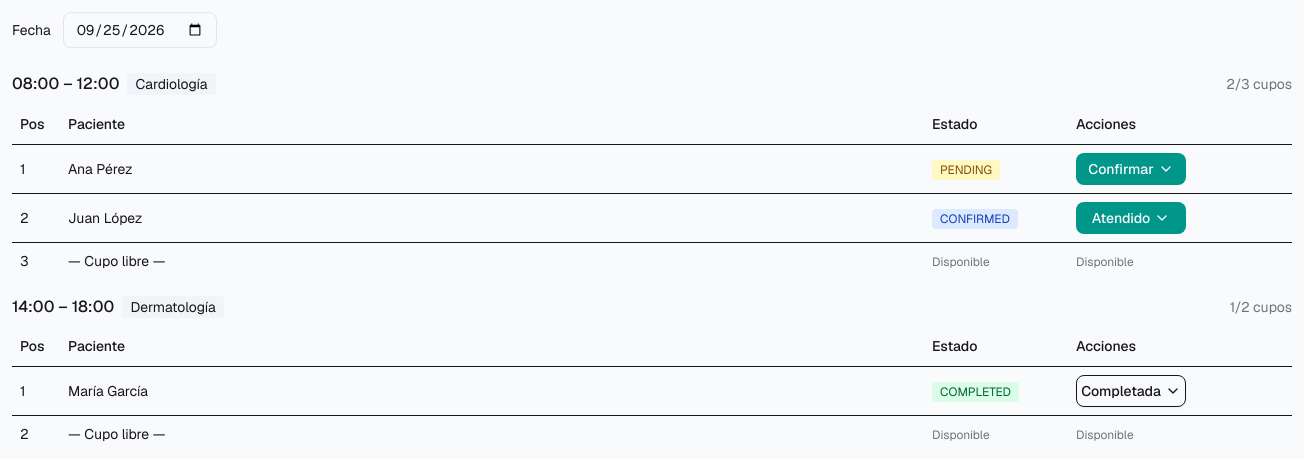
Test case: Agenda del doctor › marca ATENDIDA y NO_ASISTIDA
# Abrir dropdown y verificar botones
Click the button with test id "dropdown-cita-1" at coordinates (1131, 168), box top-left (1076, 152), bottom-right (1186, 184)
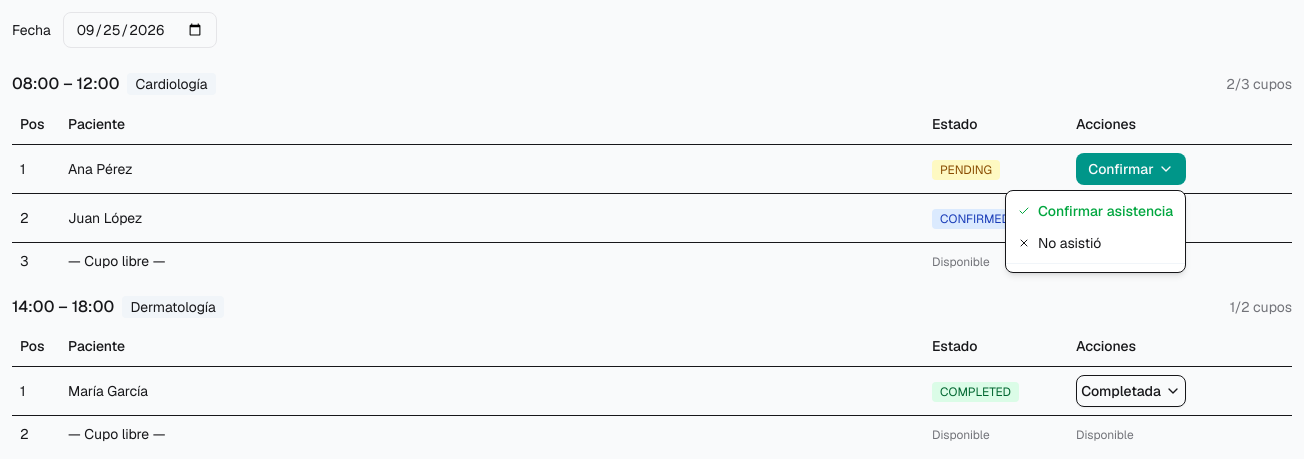
Expected: the menu item with test id "conf-cita-1" is shown, top-left (1018, 202), bottom-right (1173, 220)
Expected: the menu item with test id "na-cita-1" is shown, top-left (1018, 234), bottom-right (1101, 252)
# Cerrar dropdown con Escape
Press Escape
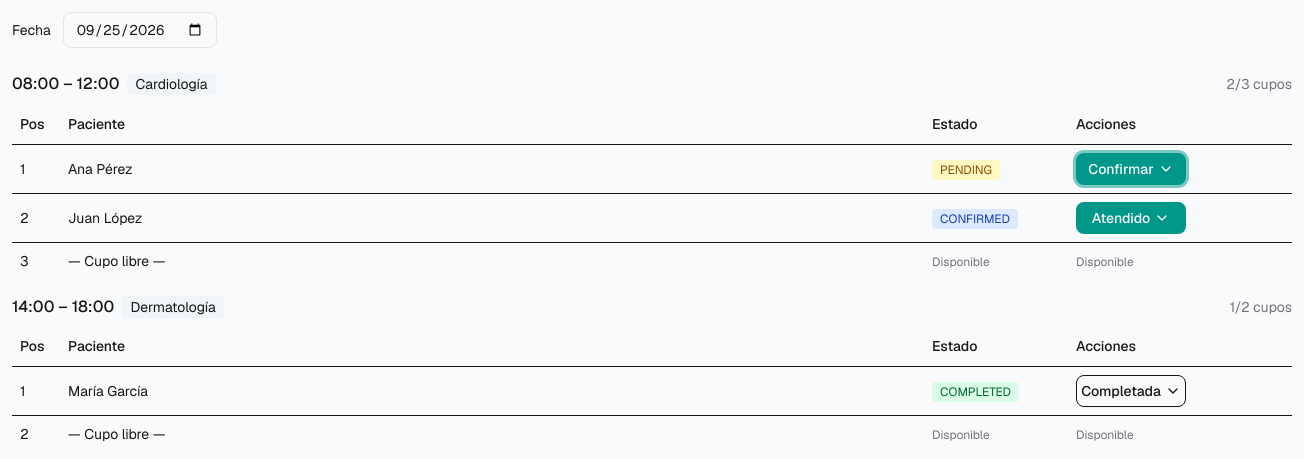
# Abrir dropdown para cita-2
Click the button with test id "dropdown-cita-2" at coordinates (1131, 218), box top-left (1076, 202), bottom-right (1186, 234)
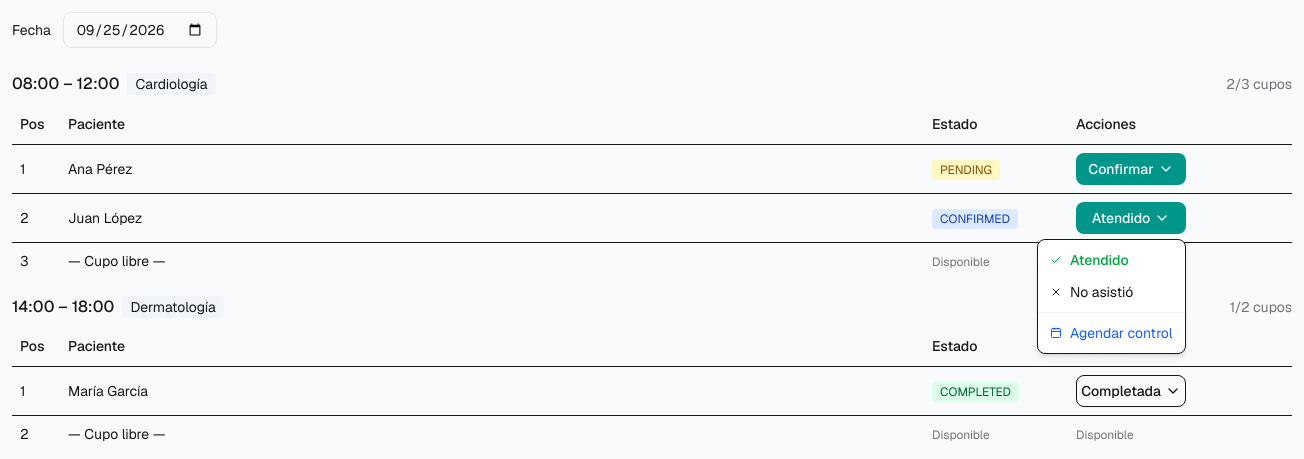
Expected: the menu item with test id "aten-cita-2" is shown, top-left (1050, 251), bottom-right (1129, 269)
Expected: the menu item with test id "na-cita-2" is shown, top-left (1050, 283), bottom-right (1133, 301)
